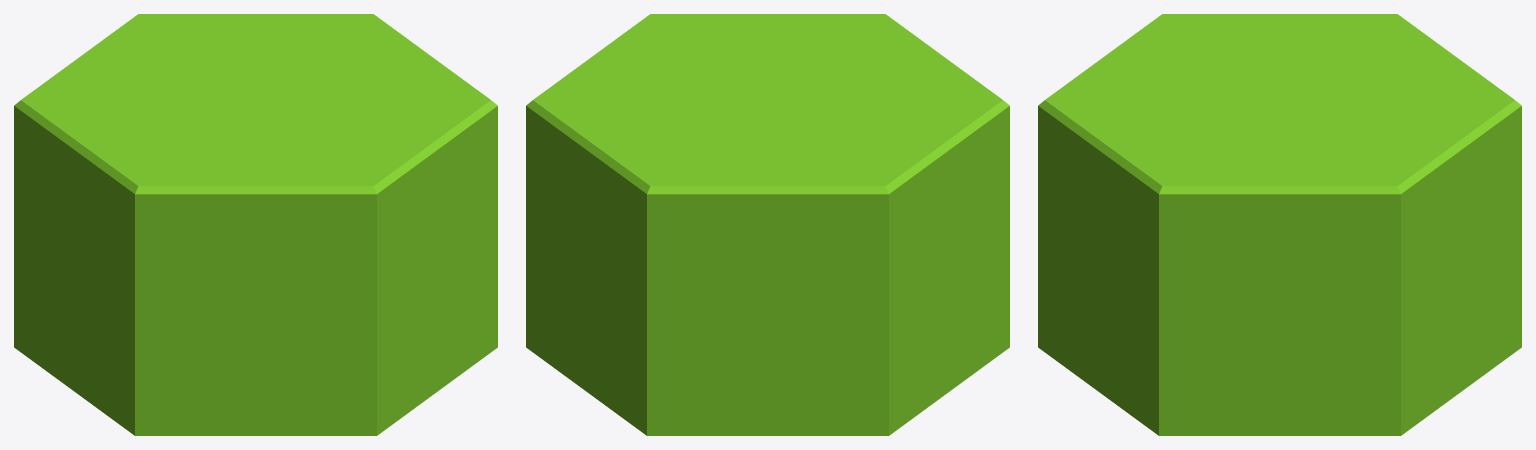
The model's file is Hex Tile Grass 02.glb.
3 views of the same model, side by side, from view 1: azimuth 30°, elevation 25°; view 2: azimuth 150°, elevation 25°; view 3: azimuth 270°, elevation 25° (orthographic).
Parts seen in each view (by area): view 1: body.003; view 2: body.003; view 3: body.003.
Part boxes in pixels (box(x1,y1,x2,y2)): body.003: box(14, 14, 497, 435); body.003: box(526, 14, 1009, 435); body.003: box(1038, 14, 1521, 435).
Bounding box in the file's own units: 1.65 × 1.07 × 1.9.
